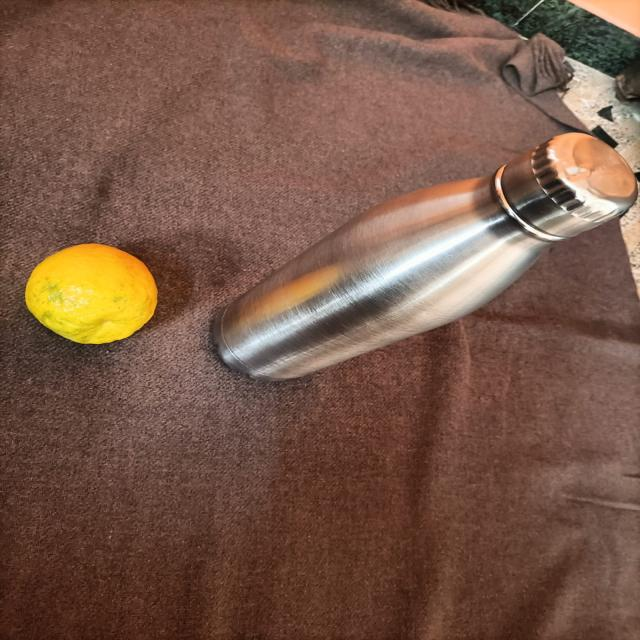bottle: (189, 26, 639, 412)
orange: (7, 222, 179, 444)
